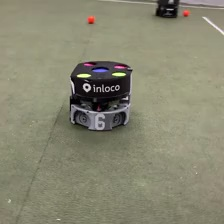ball: (86, 14, 95, 24), (182, 7, 190, 15)
robot: (68, 59, 134, 133), (153, 1, 180, 18)
